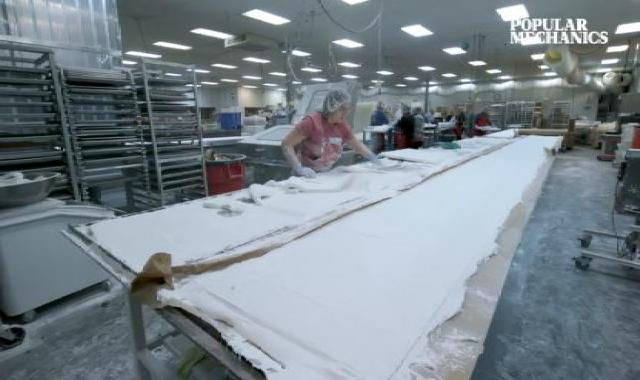hairnet: (319, 87, 353, 118)
